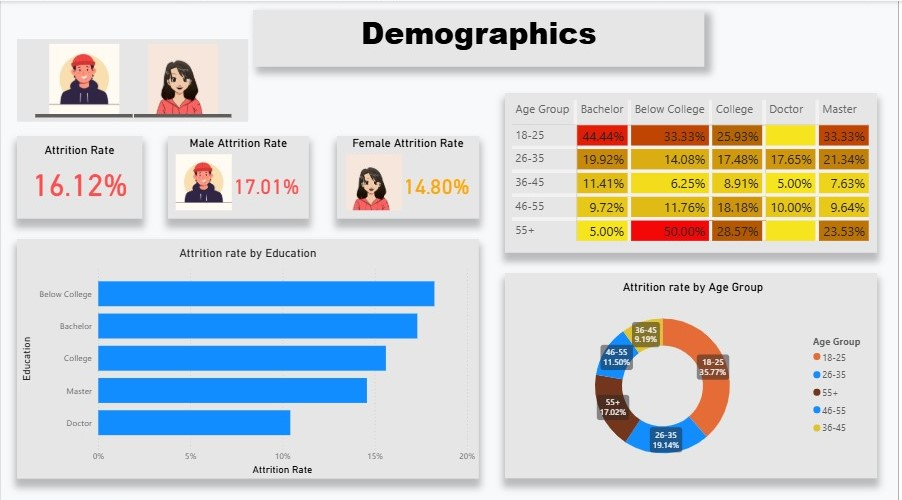

The page's visual inventory and layout, read from the dashboard file:
{"tool":"powerbi","page":{"name":"Demographics","canvas":[1280,720],"ordinal":1},"visuals":[{"type":"textbox","box":[359.3,13.1,644.4,81.5],"z":0},{"type":"donutChart","title":"Attrition rate by Age Group","fields":{"Category":["WA_Fn-UseC_-HR-Employee-Attrition.Age Group"],"Y":["Measured.attrition rate"]},"box":[718.6,388.3,531.5,293.4],"z":1000},{"type":"clusteredBarChart","title":"Attrition rate by Education","fields":{"Category":["Education Rating.Education"],"Y":["Measured.attrition rate"]},"box":[22.7,340.2,659.1,341.6],"z":2000},{"type":"pivotTable","fields":{"Rows":["WA_Fn-UseC_-HR-Employee-Attrition.Age Group"],"Columns":["Education Rating.Education","WA_Fn-UseC_-HR-Employee-Attrition.Gender"],"Values":["Measured.attrition rate"]},"box":[718.6,131.8,531.5,228.2],"z":3000},{"type":"card","title":"Attrition Rate","fields":{"Values":["Measured.attrition rate"]},"box":[22.7,192.8,178.6,117.6],"z":4000},{"type":"cardVisual","title":"Male Attrition Rate","fields":{"Data":["Measured.attrition rate male"]},"box":[238.1,192.8,201.3,117.6],"z":5000},{"type":"cardVisual","title":"Female Attrition Rate","fields":{"Data":["Measured.attrition rate female"]},"box":[479.1,192.8,202.7,117.6],"z":6000},{"type":"slicer","fields":{"Values":["WA_Fn-UseC_-HR-Employee-Attrition.ImageURL"]},"box":[22.7,53.9,330.2,117.6],"z":7000}]}

Visuals, with their boxes in screenshot pixels (x1, y1, x2, y2), scaled from the page's 1280x720 canvas onto the 902x500 screenshot:
textbox: bbox=[253, 9, 707, 66]
"Attrition rate by Age Group" donutChart: bbox=[506, 270, 881, 473]
"Attrition rate by Education" clusteredBarChart: bbox=[16, 236, 480, 473]
pivotTable - WA_Fn-UseC_-HR-Employee-Attrition.Age Group x Education Rating.Education: bbox=[506, 92, 881, 250]
"Attrition Rate" card: bbox=[16, 134, 142, 216]
"Male Attrition Rate" cardVisual: bbox=[168, 134, 310, 216]
"Female Attrition Rate" cardVisual: bbox=[338, 134, 480, 216]
slicer - WA_Fn-UseC_-HR-Employee-Attrition.ImageURL: bbox=[16, 37, 249, 119]
